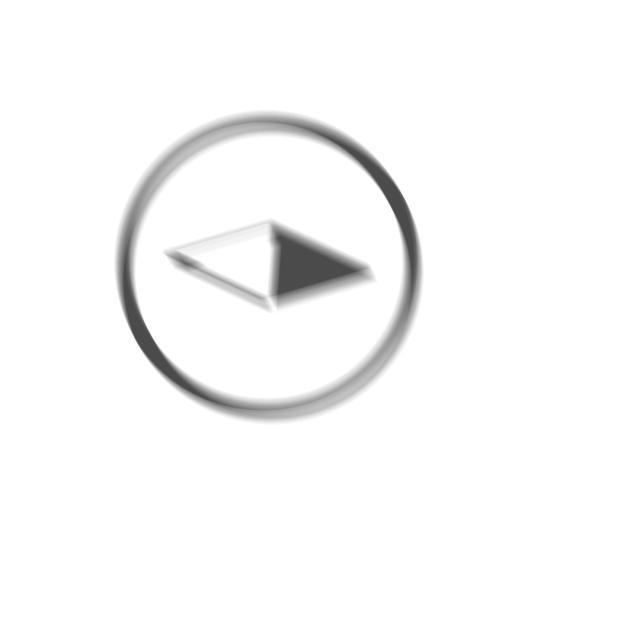compass: (108, 107, 429, 430)
